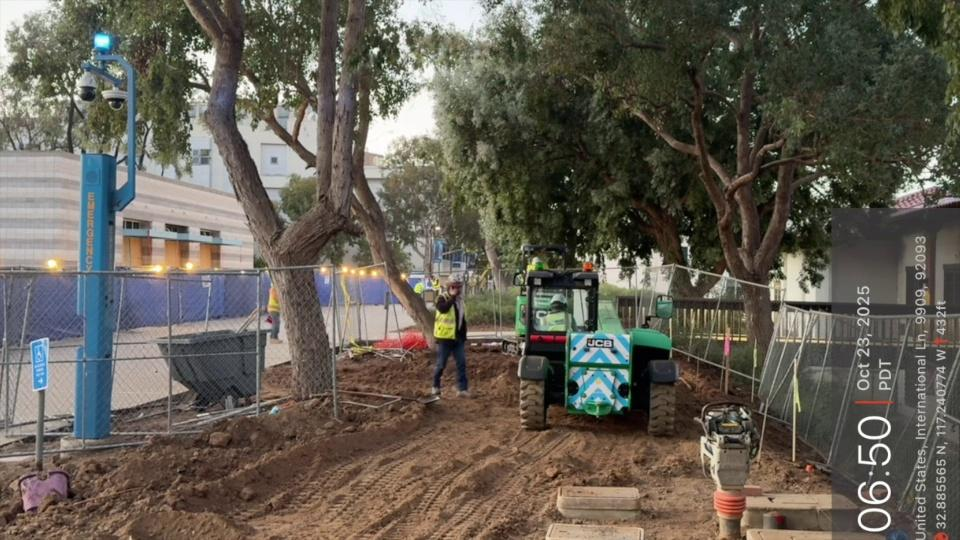Exacavator: (506, 242, 680, 436)
